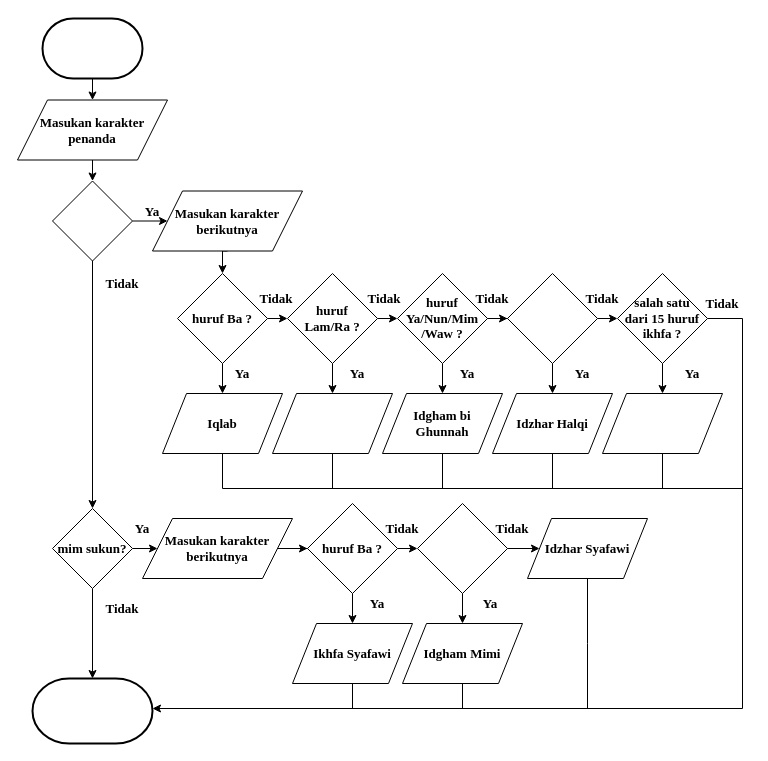
Image size: 768x761. Some labels were removed from this diagram. The centre of each missing label's shape, as x and y in pixels:
huruf Mim ?: the point at 462,548
Idgham bila Ghunnah: the point at 332,423
Ikhfa Haqiqi: the point at 662,423
Mulai: the point at 92,48
salah satu dari 6 huruf halqi ?: the point at 552,318
Selesai: the point at 92,710
tanwin/nun sukun?: the point at 92,220
